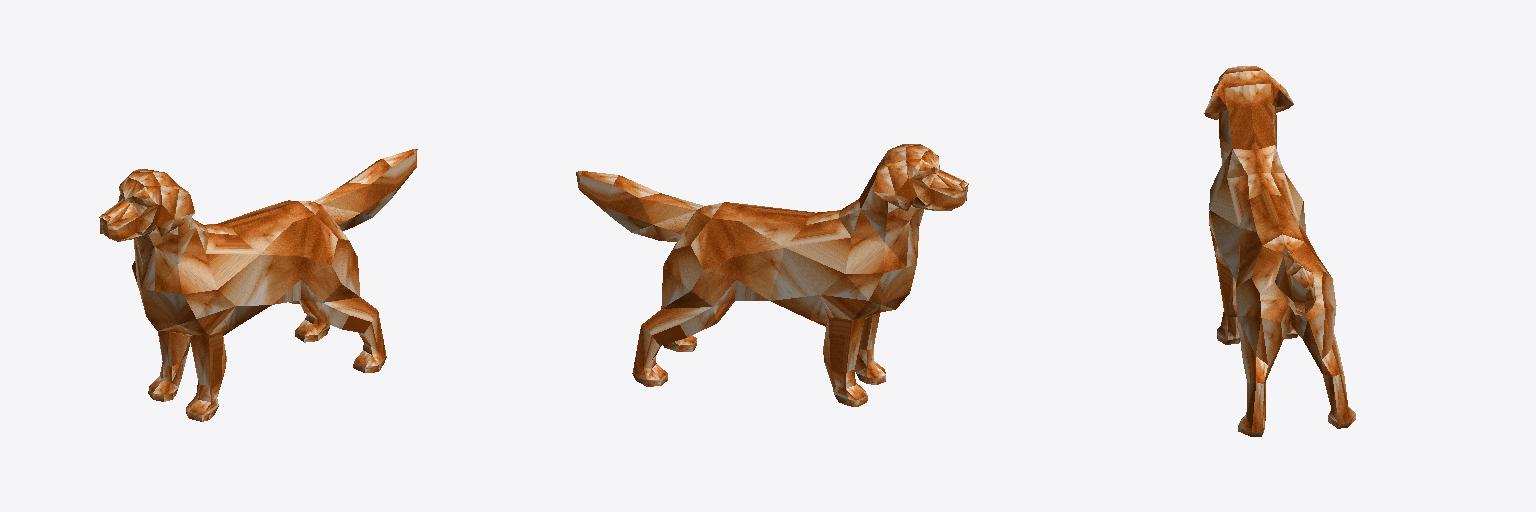
The picture shows the model from 3 angles: view 1: azimuth 30°, elevation 25°; view 2: azimuth 150°, elevation 25°; view 3: azimuth 270°, elevation 25°; orthographic projection.
Parts seen in each view (by area): view 1: Golden:dog; view 2: Golden:dog; view 3: Golden:dog.
Boxes of the visible parts, x1,y1,x2,y2 form: Golden:dog: [99, 149, 417, 421]; Golden:dog: [576, 144, 968, 406]; Golden:dog: [1204, 66, 1355, 436].
Size of the model in its own units: 2.24 by 1.52 by 0.8306.
1 materials, 1 textured.